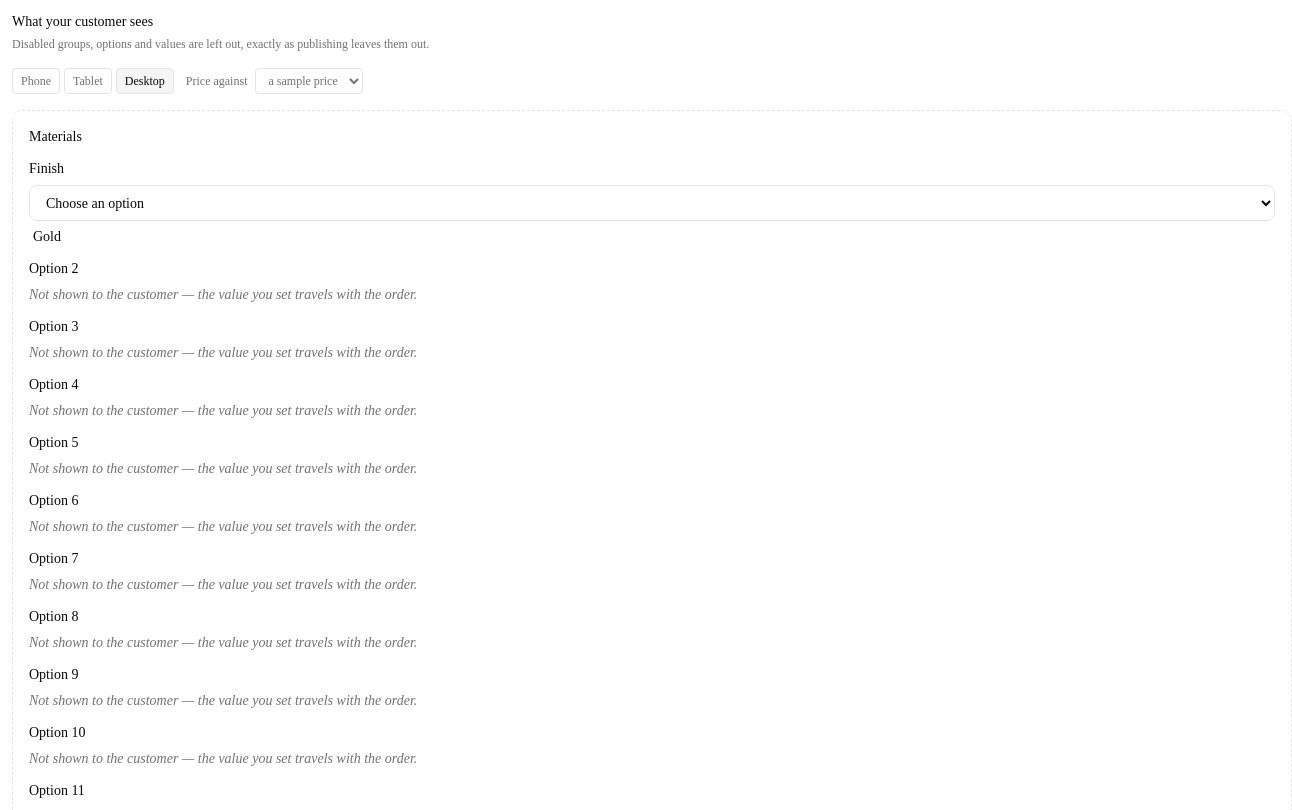
SetPreview — interactive › says the rules could not be resolved rather than drawing the set
The image size is (1292, 810).
Click the button "Gold": (47, 236) [29,227,1275,247]
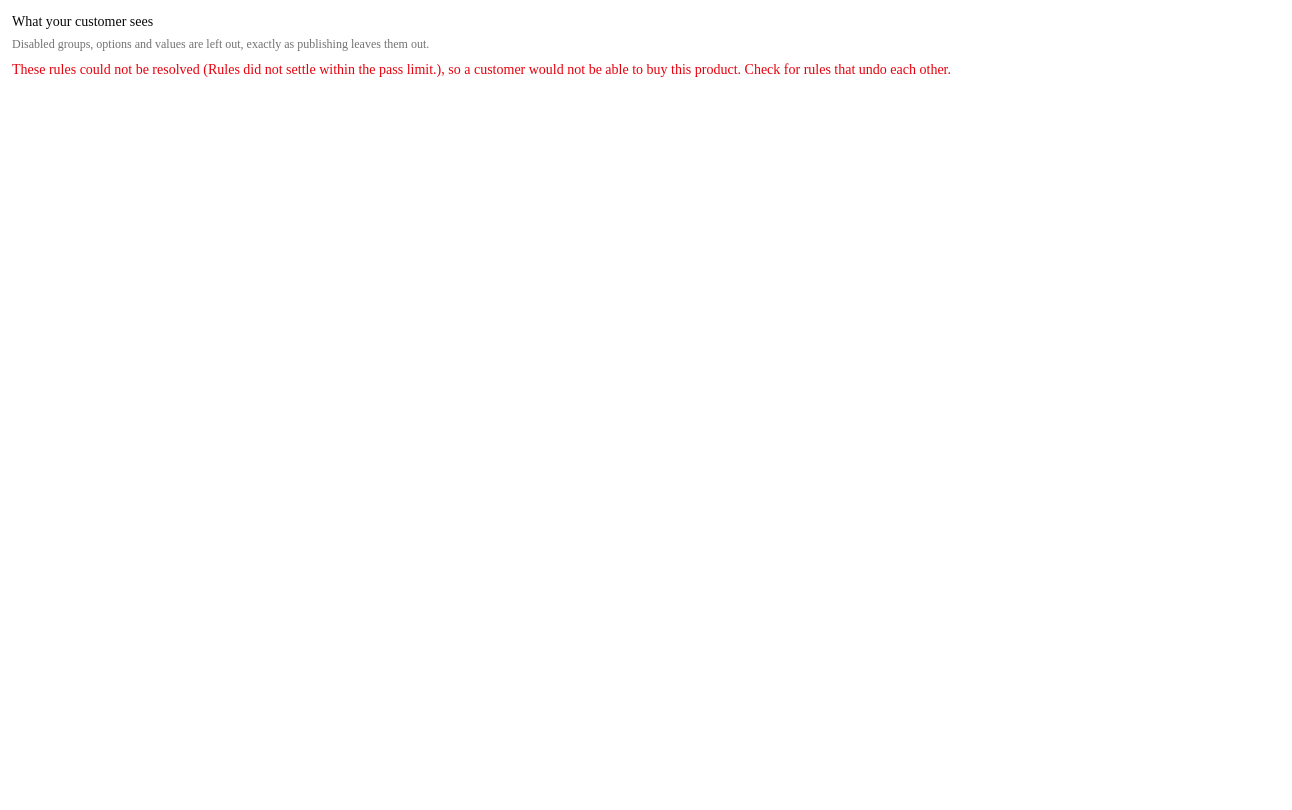
Now the text "could not be resolved" is shown, box [12,62,208,77]
